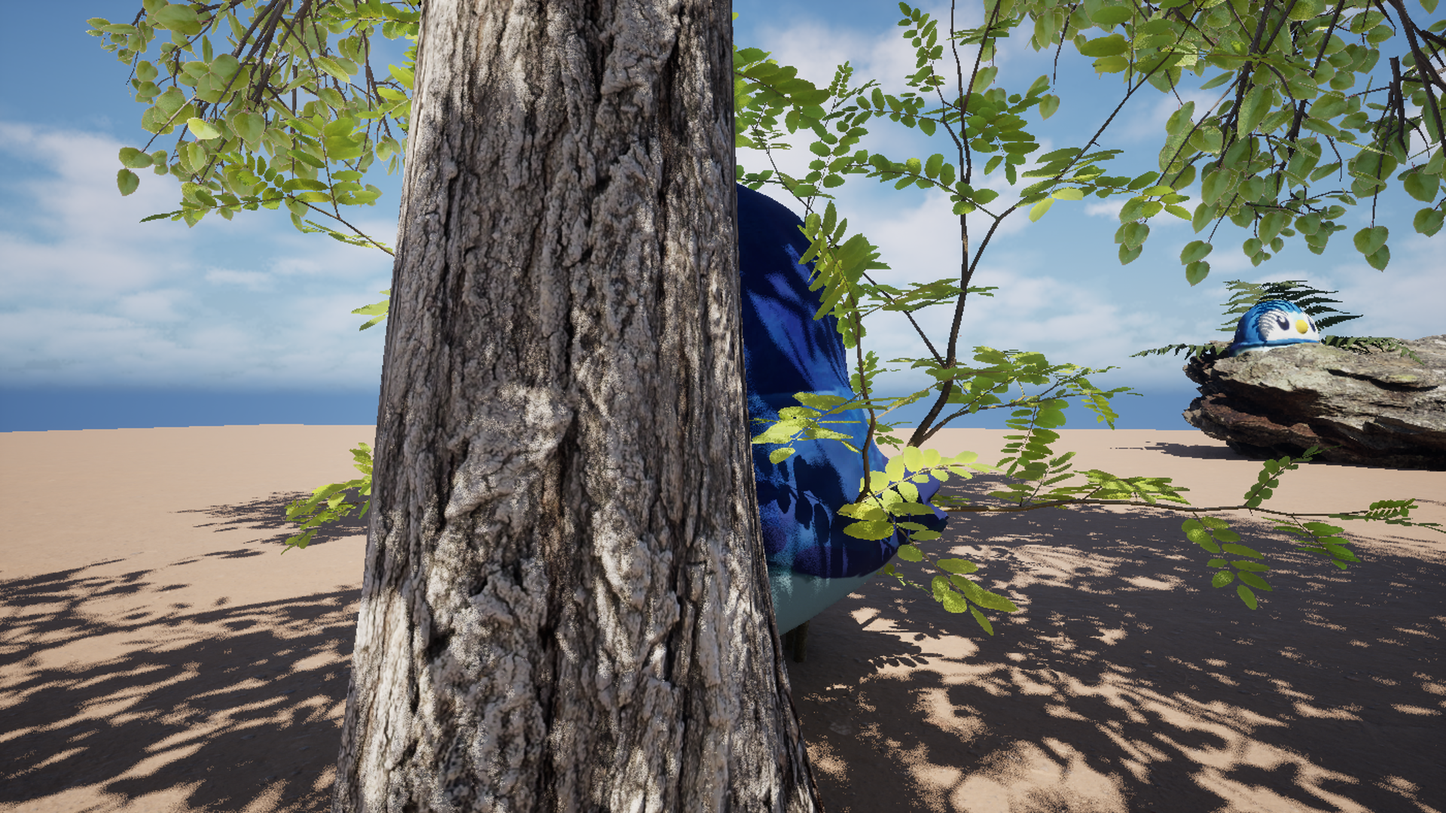Piplup: (288, 0, 1065, 813)
